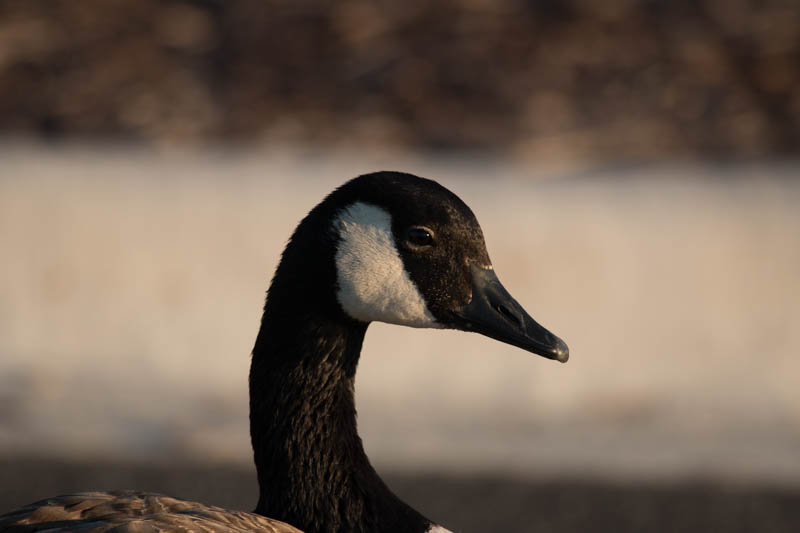goose-head: (285, 171, 570, 364)
